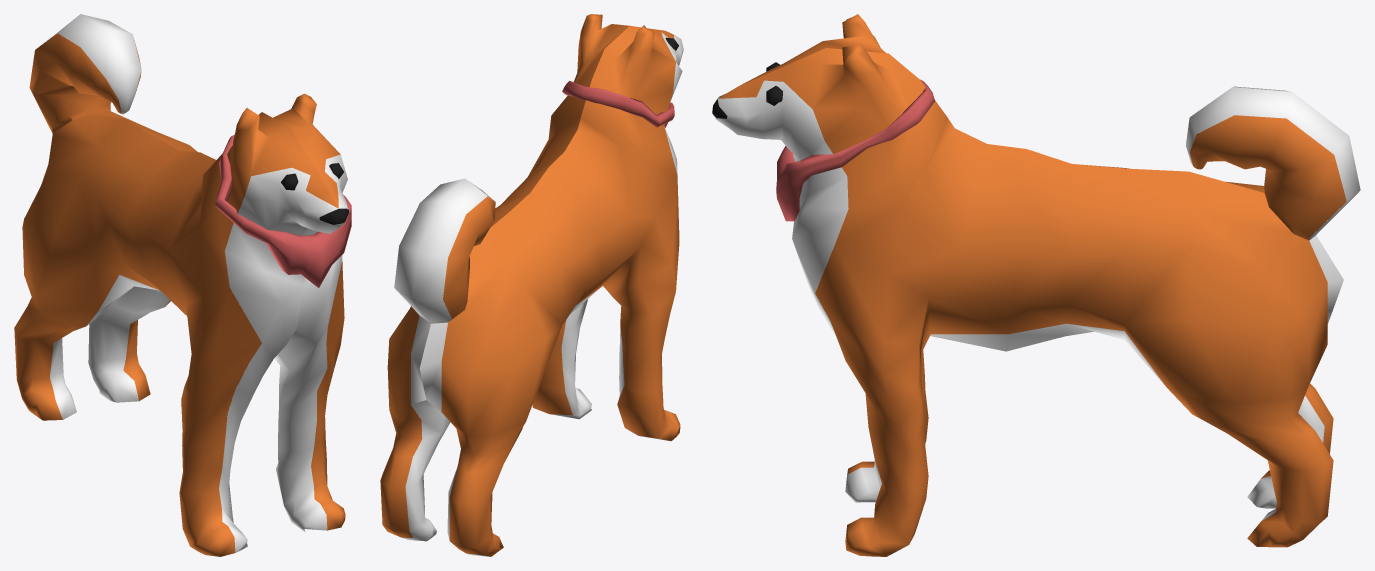
File: dog.glb
3 renders of one model, left to right at view 1: azimuth 30°, elevation 25°; view 2: azimuth 150°, elevation 25°; view 3: azimuth 270°, elevation 25°, orthographic. The views are drawn at different scales.
Parts seen in each view (by area): view 1: Null.1; view 2: Null.1; view 3: Null.1.
Boxes of the visible parts, box(x1,y1,x2,y2) form: Null.1: box(14, 14, 351, 556); Null.1: box(380, 14, 683, 556); Null.1: box(712, 14, 1360, 556).
Size of the model in its own units: 0.2194 by 0.6 by 0.7217.
